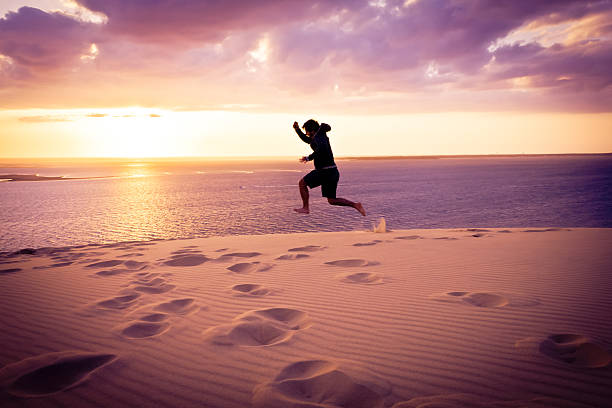human_footprint: (95, 260, 199, 338), (252, 359, 390, 407), (0, 351, 117, 397), (203, 307, 310, 346), (117, 298, 201, 338), (515, 333, 611, 367), (391, 393, 592, 407), (539, 333, 611, 367), (430, 291, 539, 307), (158, 246, 211, 266), (86, 259, 148, 276), (129, 273, 175, 293), (119, 321, 169, 338), (95, 292, 141, 310), (152, 298, 199, 314), (276, 245, 326, 259), (163, 253, 209, 266), (226, 261, 274, 273), (338, 272, 383, 284), (231, 283, 271, 296), (214, 251, 261, 261), (325, 259, 378, 266), (86, 259, 124, 267), (465, 228, 493, 237), (288, 245, 325, 251), (352, 239, 382, 246), (275, 253, 309, 259), (521, 228, 570, 232), (354, 202, 365, 216), (0, 268, 22, 274), (394, 235, 423, 239), (293, 207, 309, 213)
